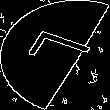L_SE: (15, 30, 95, 80)
